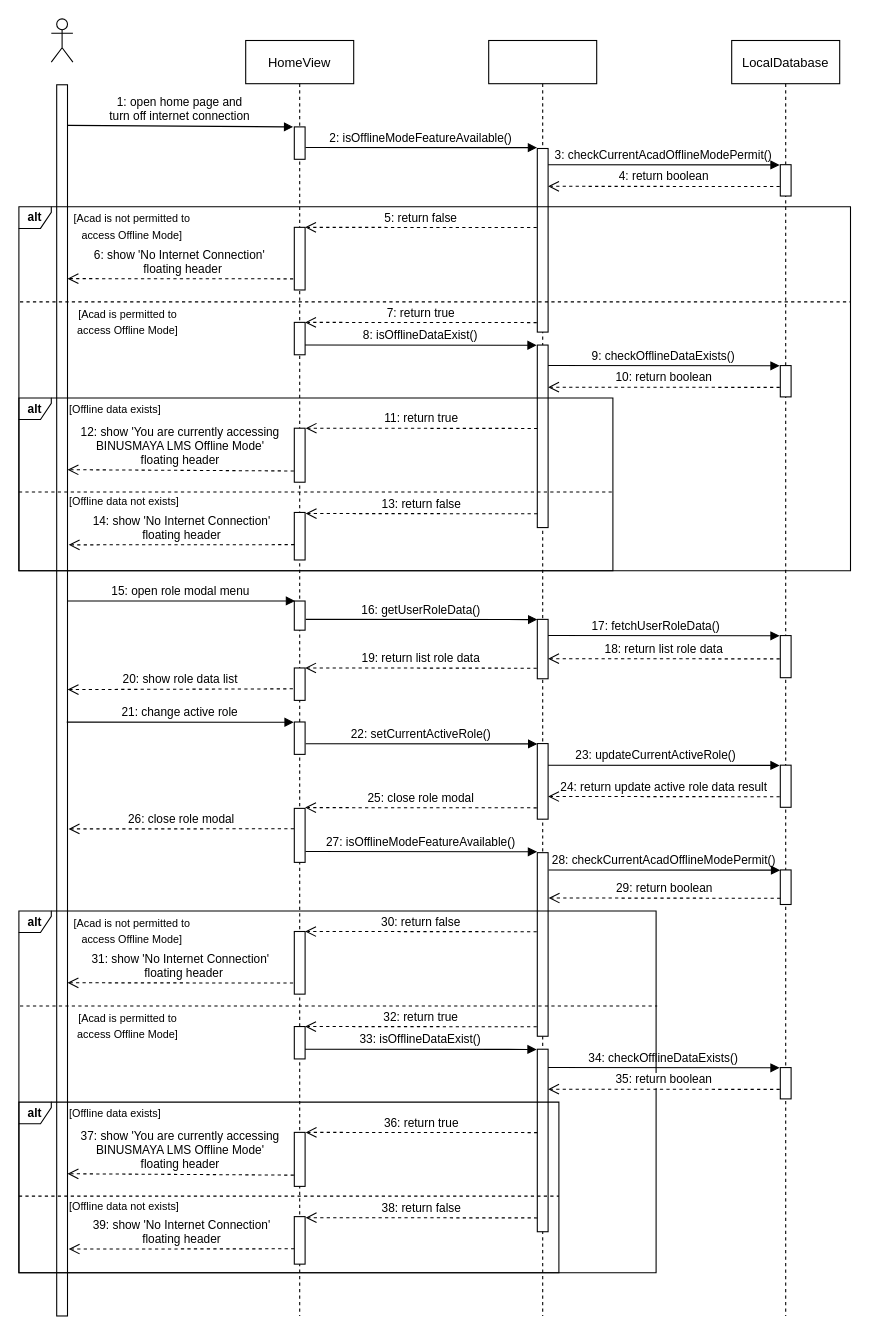
This 869x1335 diagram has some shape labels left out. The shapes that lost their labels are listed below. From the top down, each one's centre as x and y in pixels, then its label:
the point at 61,40: User
the point at 542,677: HomeUtilities
